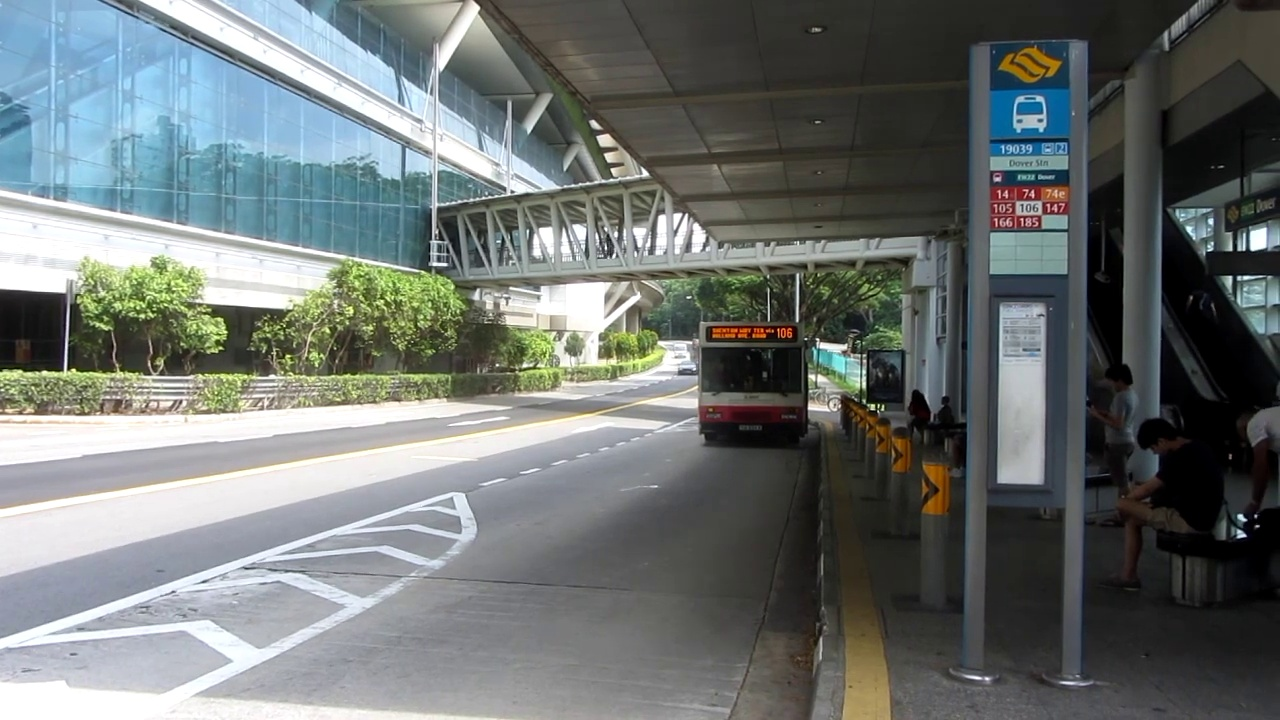bus panel: (705, 325, 799, 344)
